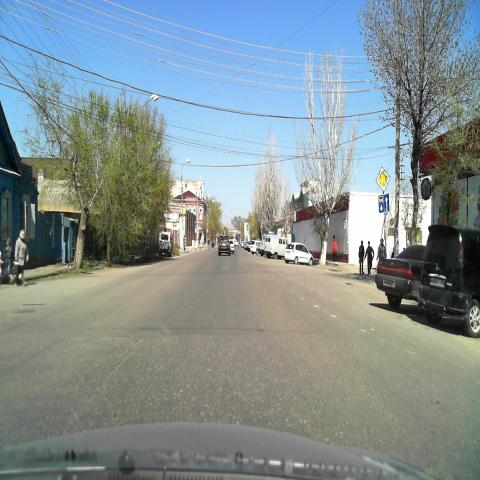5_11: (378, 193, 390, 213)
